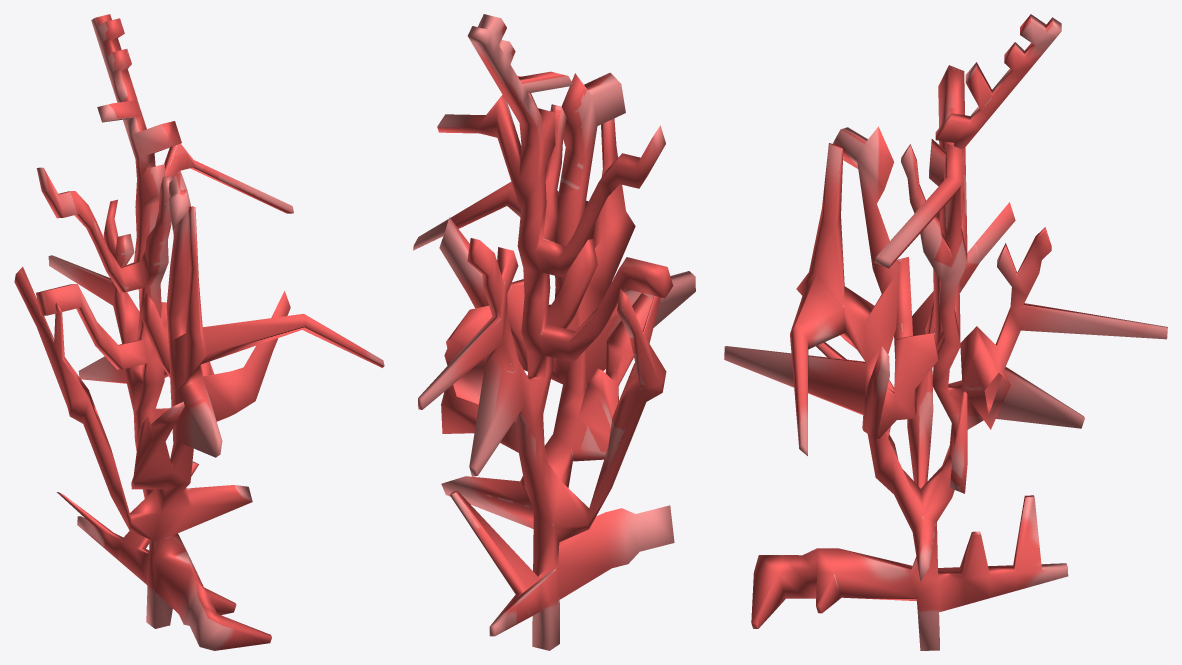
The model's file is plante5.fbx.
The picture shows the model from 3 angles, left to right: view 1: azimuth 30°, elevation 25°; view 2: azimuth 150°, elevation 25°; view 3: azimuth 270°, elevation 25°; orthographic projection. The views are drawn at different scales.
Visible parts, largest first — view 1: Cube.001; view 2: Cube.001; view 3: Cube.001.
Part boxes in pixels (x1,y1,x2,y2): Cube.001: [14, 14, 384, 650]; Cube.001: [413, 14, 695, 650]; Cube.001: [724, 14, 1167, 650].
Size of the model in its own units: 3620 by 7084 by 4529.
1 material, 1 textured.
